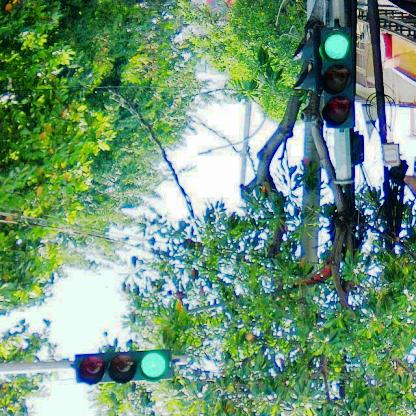Traffic Light -Green-: (319, 28, 357, 129), (74, 352, 172, 382)
